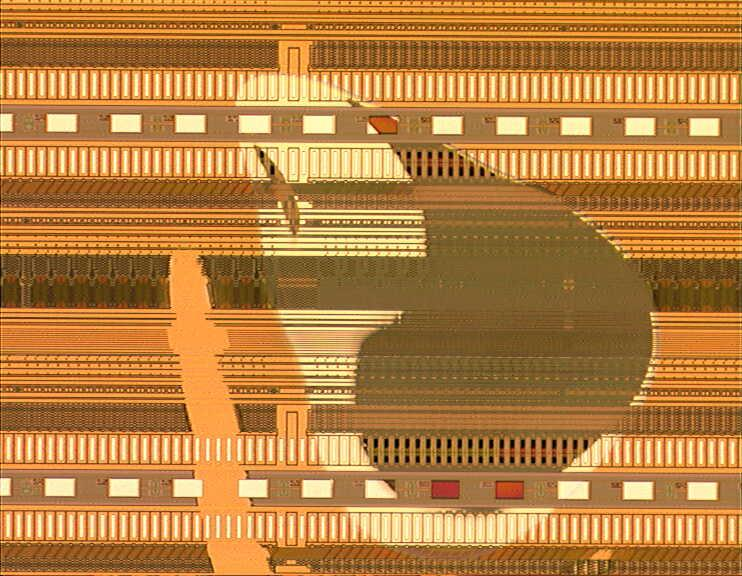BLOCK ETCH: (163, 69, 661, 576)
